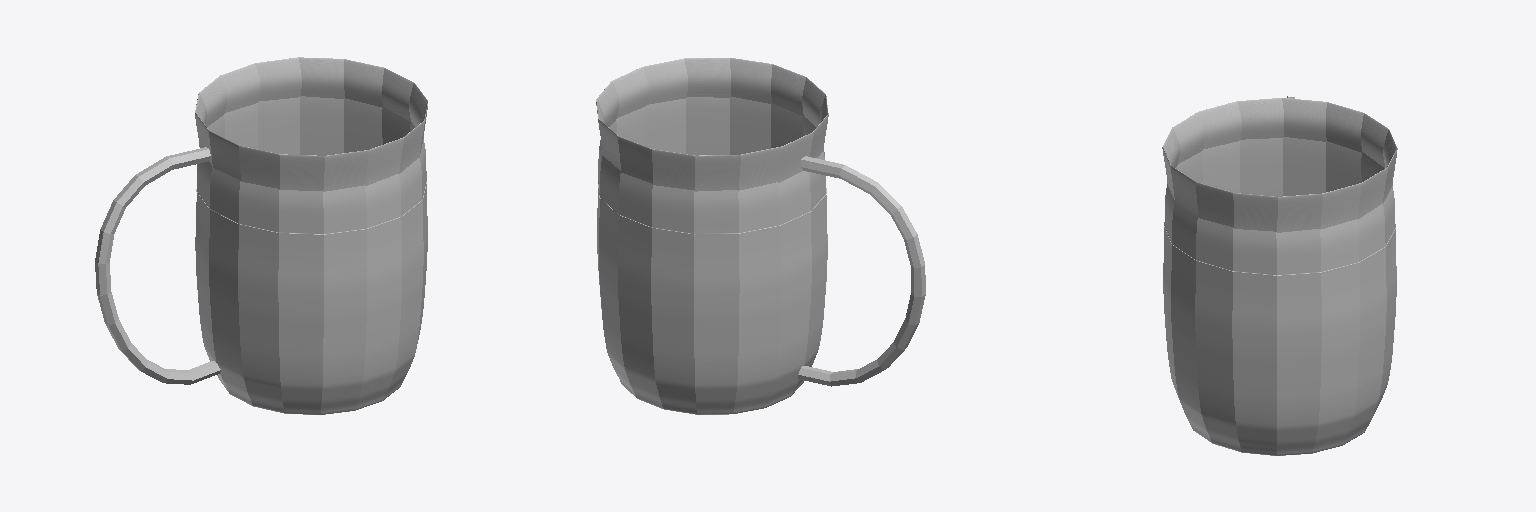
The model's file is mug.obj.
3 views of the same model, side by side, from view 1: azimuth 30°, elevation 25°; view 2: azimuth 150°, elevation 25°; view 3: azimuth 270°, elevation 25° (orthographic).
Parts seen in each view (by area): view 1: Cube.002, BezierCurve_BezierCurve.001; view 2: Cube.002, BezierCurve_BezierCurve.001; view 3: Cube.002.
Part boxes in pixels (x1,y1,x2,y2): Cube.002: (195, 57, 427, 414); BezierCurve_BezierCurve.001: (95, 147, 220, 384); Cube.002: (596, 58, 828, 414); BezierCurve_BezierCurve.001: (798, 156, 925, 386); Cube.002: (1162, 98, 1397, 455).
Size of the model in its own units: 1.19 by 0.9779 by 0.7669.